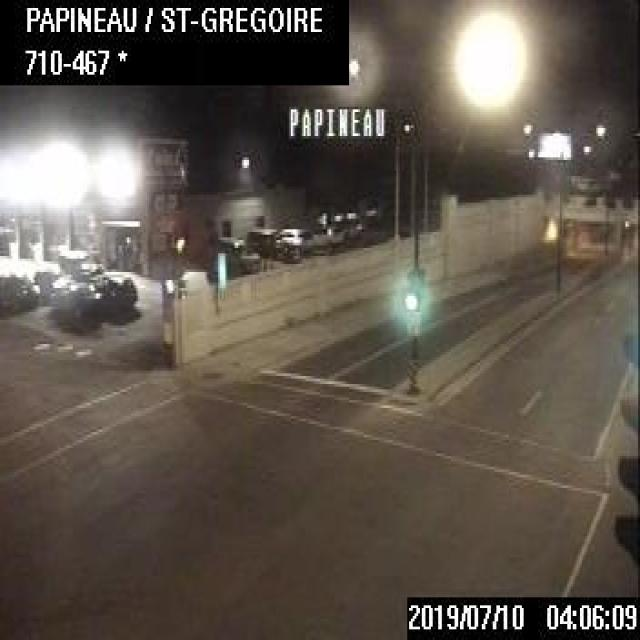vehicle: (82, 268, 139, 320), (202, 228, 262, 276), (50, 278, 100, 317), (269, 223, 313, 256), (0, 269, 36, 309)
